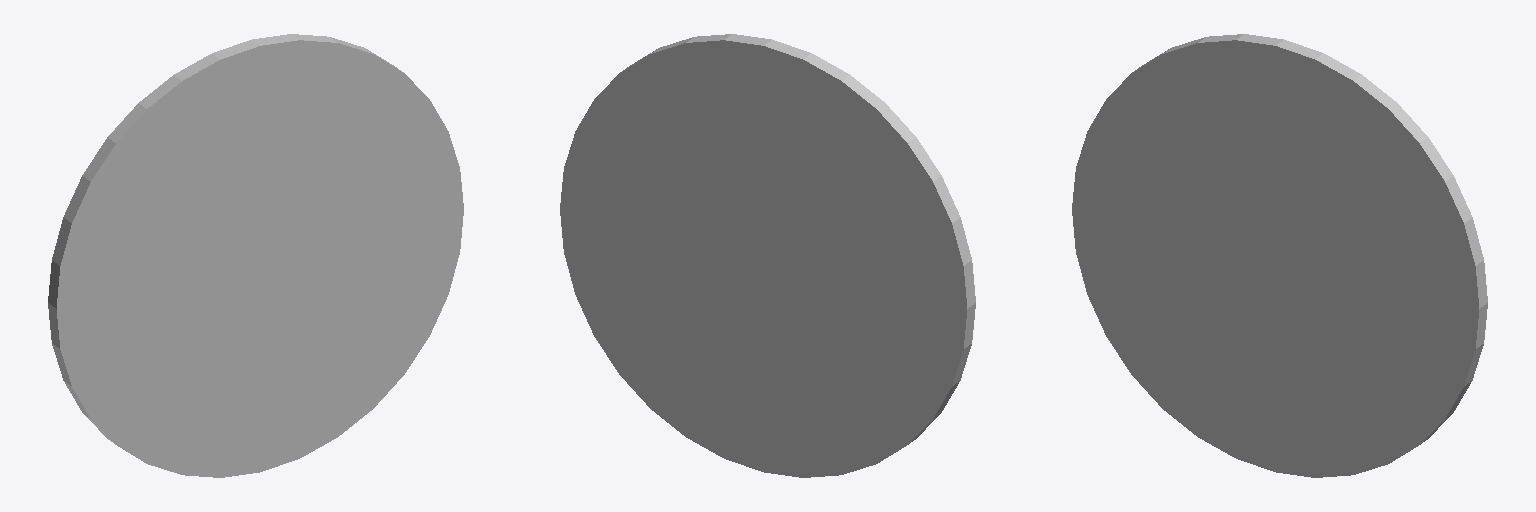
The model's file is Ground.obj.
The picture shows the model from 3 angles: view 1: azimuth 30°, elevation 25°; view 2: azimuth 150°, elevation 25°; view 3: azimuth 330°, elevation 25°; orthographic projection.
Visible parts, largest first — view 1: Cylinder; view 2: Cylinder; view 3: Cylinder.
Boxes of the visible parts, <box> form: Cylinder: <box>48,34,463,477</box>; Cylinder: <box>560,34,975,477</box>; Cylinder: <box>1072,34,1487,477</box>.
Bounding box in the file's own units: 54.47 × 54.47 × 2.